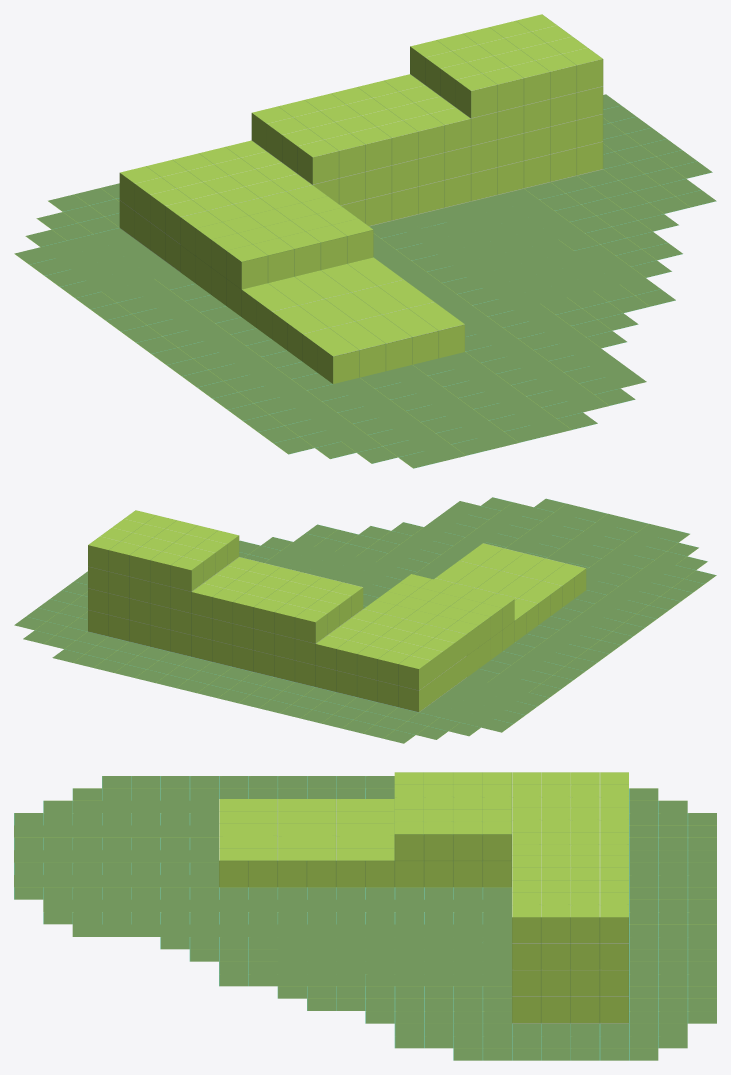
The model's file is POC.obj.
The picture shows the model from 3 angles, top to bottom: view 1: azimuth 30°, elevation 25°; view 2: azimuth 150°, elevation 25°; view 3: azimuth 270°, elevation 25°; orthographic projection. The views are drawn at different scales.
Visible parts, largest first — view 1: Default; view 2: Default; view 3: Default.
Boxes of the visible parts, x1,y1,x2,y2 form: Default: (14,14,716,468); Default: (14,497,716,743); Default: (14,772,716,1060).
Size of the model in its own units: 23 by 4 by 24.
1 material, 1 textured.
